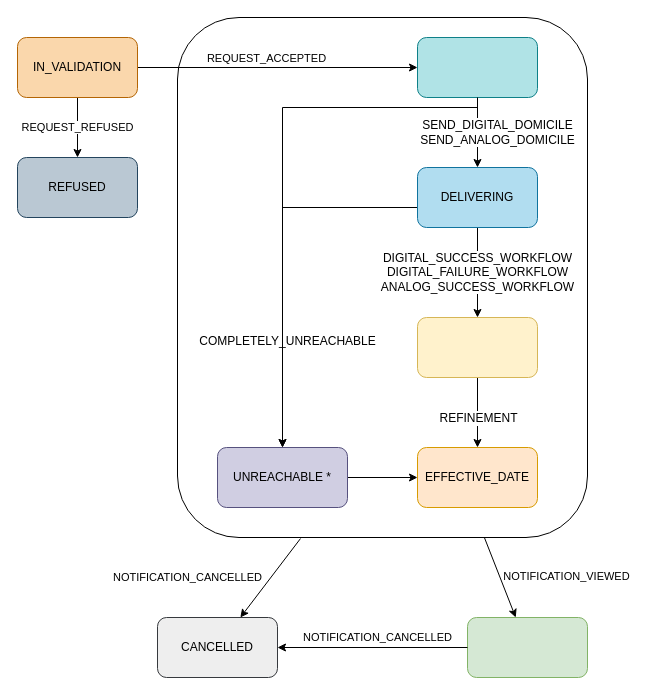
This 647x695 diagram has some shape labels left out. Here are the shapes that lost their labels. From the top down, the box of each, then its label:
(416, 36, 538, 98): ACCEPTED
(416, 316, 538, 378): DELIVERED *
(466, 616, 588, 678): VIEWED
